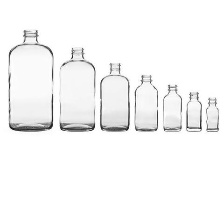bottle: (6, 25, 54, 133), (57, 42, 98, 135), (98, 58, 130, 132), (132, 71, 160, 133), (161, 80, 184, 134), (184, 89, 204, 131), (205, 95, 219, 132)
